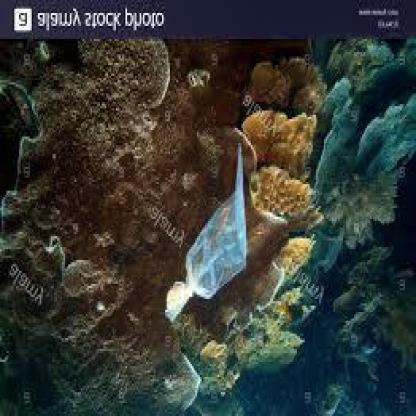pbag: (163, 143, 251, 327)
